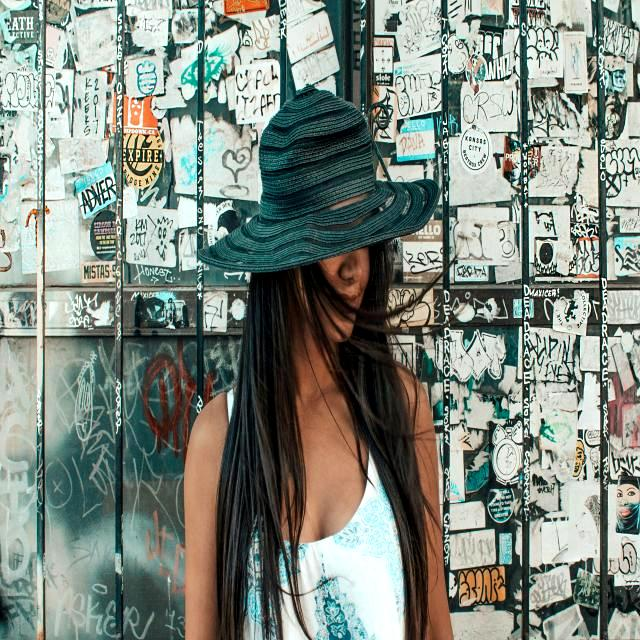no_hard_hat: (198, 86, 439, 273)
person: (185, 87, 453, 640)
